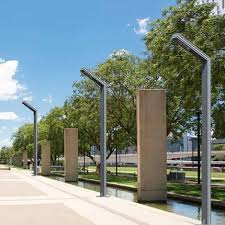light_pole: (184, 31, 214, 225), (87, 66, 109, 198), (24, 98, 39, 176)
